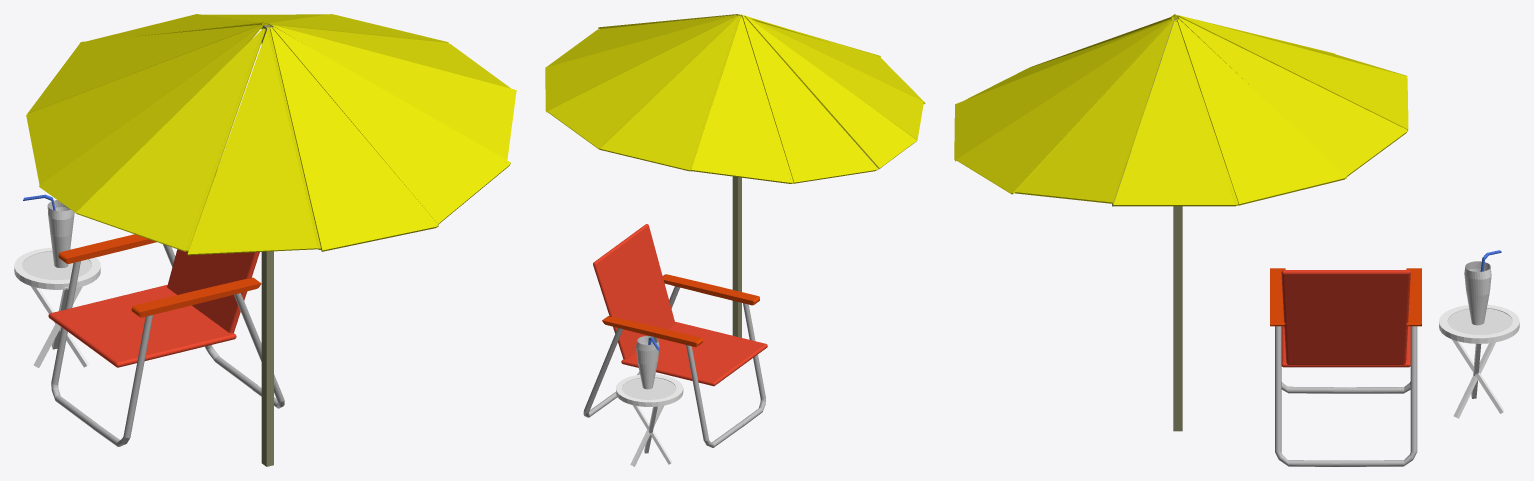
File: BeachRelaxingObjects_Redo_03.glb
The picture shows the model from 3 angles, left to right: view 1: azimuth 30°, elevation 25°; view 2: azimuth 150°, elevation 25°; view 3: azimuth 270°, elevation 25°; orthographic projection. The views are drawn at different scales.
Parts seen in each view (by area): view 1: Umbrella, LawnChair, SmallDesk, Cup; view 2: Umbrella, LawnChair, SmallDesk, Cup; view 3: Umbrella, LawnChair, SmallDesk, Cup.
Part boxes in pixels (x1,y1,x2,y2): Umbrella: [26, 14, 516, 466]; LawnChair: [48, 234, 284, 446]; SmallDesk: [14, 247, 100, 367]; Cup: [23, 194, 74, 268]; Umbrella: [545, 14, 925, 337]; LawnChair: [583, 224, 767, 447]; SmallDesk: [616, 374, 683, 466]; Cup: [636, 336, 659, 389]; Umbrella: [954, 14, 1408, 431]; LawnChair: [1270, 268, 1421, 466]; SmallDesk: [1439, 304, 1519, 418]; Cup: [1464, 250, 1501, 325].
Bounding box in the file's own units: 2.56 × 2.57 × 3.15.
